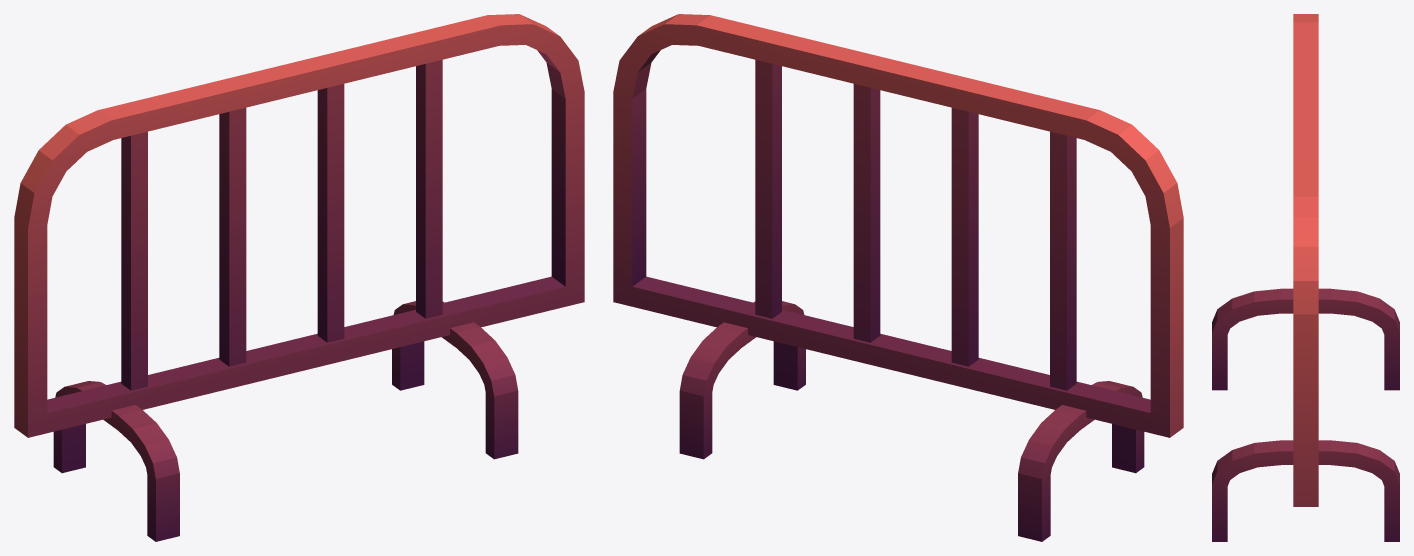
File: lpb_fence_15.fbx
3 renders of one model, left to right at view 1: azimuth 30°, elevation 25°; view 2: azimuth 150°, elevation 25°; view 3: azimuth 270°, elevation 25°, orthographic. The views are drawn at different scales.
Parts seen in each view (by area): view 1: fence15; view 2: fence15; view 3: fence15.
Part boxes in pixels (bbox=[...]): fence15: bbox=[14, 14, 584, 541]; fence15: bbox=[613, 14, 1183, 541]; fence15: bbox=[1212, 14, 1399, 541].
Bounding box in the file's own units: 299 × 200 × 95.23.
